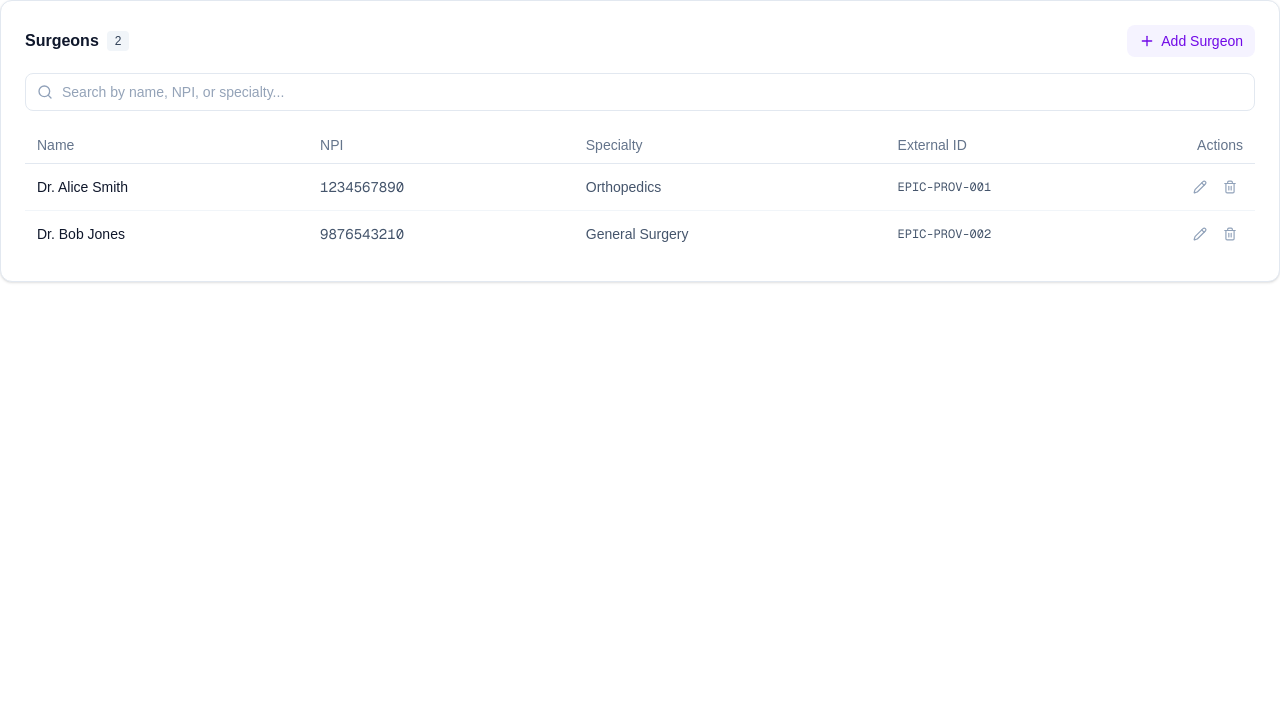
Test: SurgeonPool - Unit Tests › validates required name field
Click the button "Add Surgeon": (1191, 41) top-left (1127, 25), bottom-right (1255, 57)
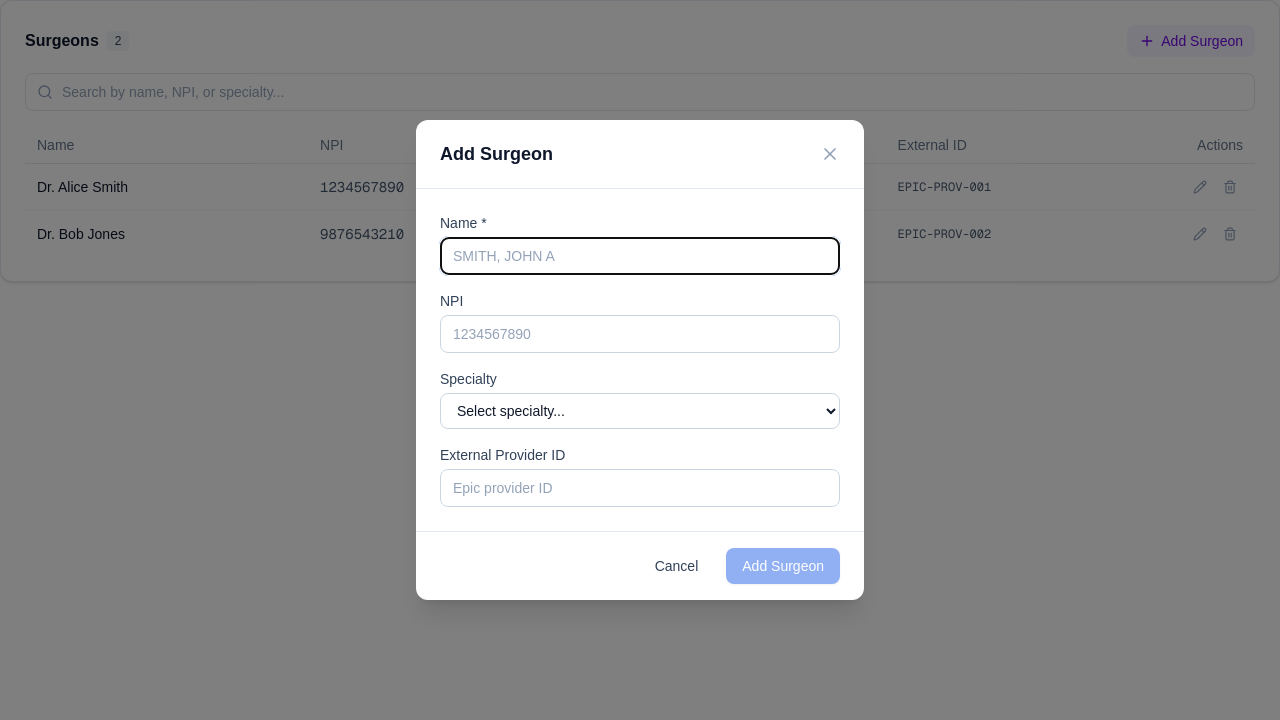
Expected: the button "Add Surgeon" is disabled, top-left (726, 548), bottom-right (840, 584)
In the field with placeholder "SMITH, JOHN A": (640, 256) top-left (440, 237), bottom-right (840, 275), type "Dr. New Surgeon"
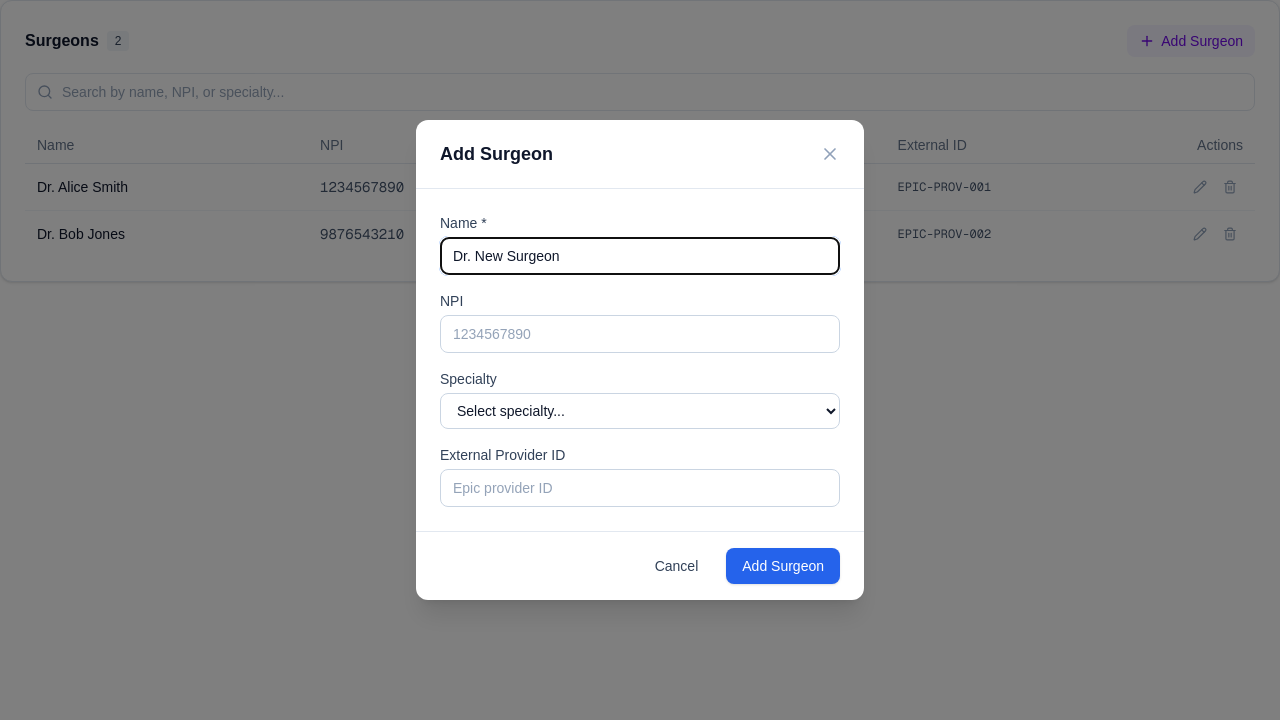
Expected: the button "Add Surgeon" is enabled, top-left (726, 548), bottom-right (840, 584)
